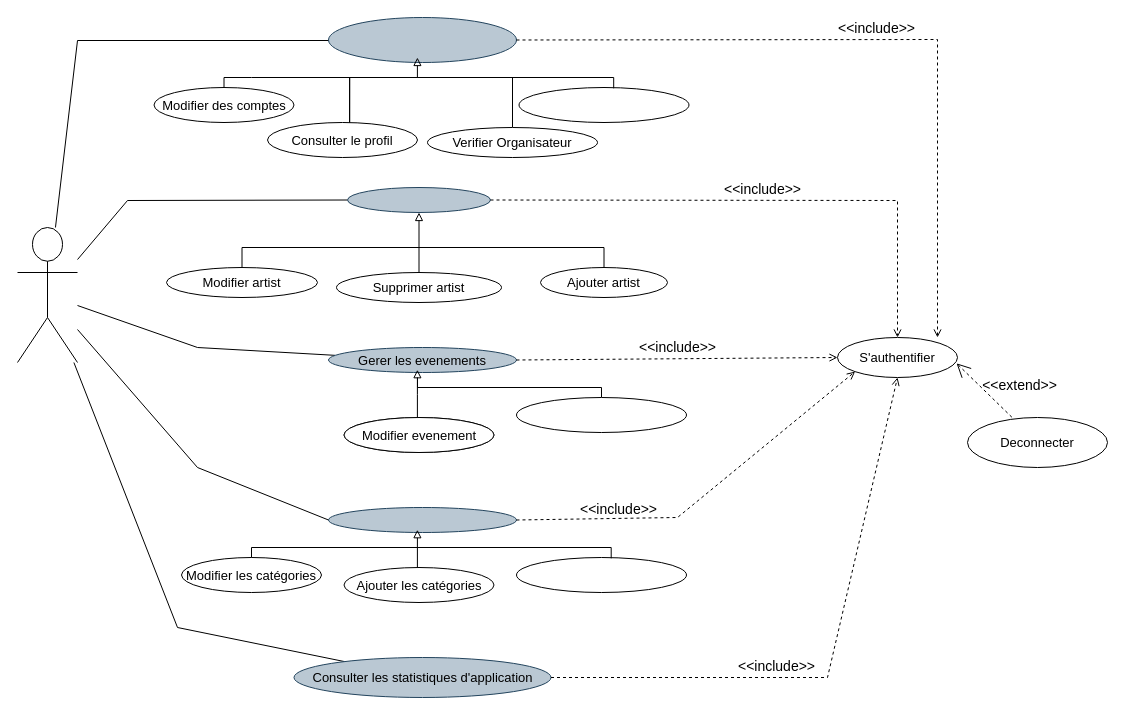
Some shapes in this 1125 by 715 pixel diagram are drawn without their labels. Each missing label, with the box of its shape:
Admin: (16, 226, 78, 362)
Gerer des artistes: (346, 186, 490, 212)
Gerer des comptes utilisateurs: (328, 16, 516, 62)
Gerer les catégories: (328, 506, 516, 532)
Supprimer des comptes: (518, 86, 689, 122)
Supprimer evenement: (516, 396, 686, 432)
Supprimer les catégories: (516, 556, 686, 592)
